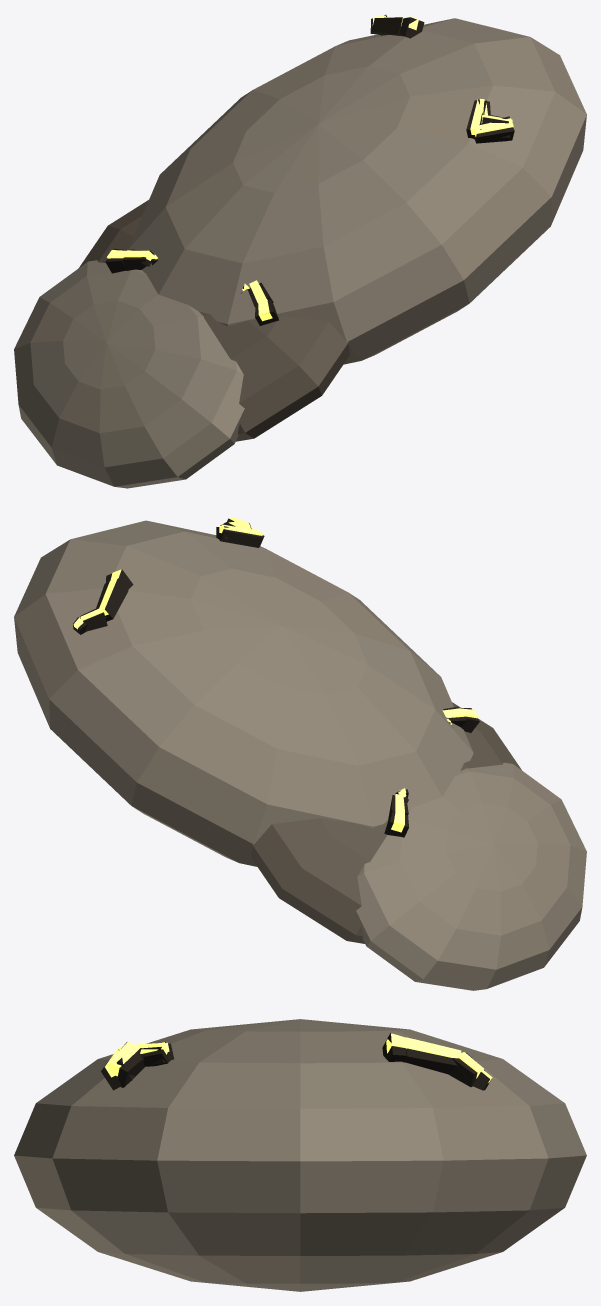
Rendered from unmoving_champion_pauldron_r.glb.
The picture shows the model from 3 angles, top to bottom: view 1: azimuth 30°, elevation 25°; view 2: azimuth 150°, elevation 25°; view 3: azimuth 270°, elevation 25°; orthographic projection. The views are drawn at different scales.
Parts seen in each view (by area): view 1: unmoving_champion_pauldron_r; view 2: unmoving_champion_pauldron_r; view 3: unmoving_champion_pauldron_r.
Part boxes in pixels (x1=…): unmoving_champion_pauldron_r: x1=14, y1=14, x2=586, y2=488; unmoving_champion_pauldron_r: x1=14, y1=517, x2=586, y2=990; unmoving_champion_pauldron_r: x1=14, y1=1019, x2=586, y2=1291.
Size of the model in its own units: 0.6521 by 0.4123 by 0.483.
